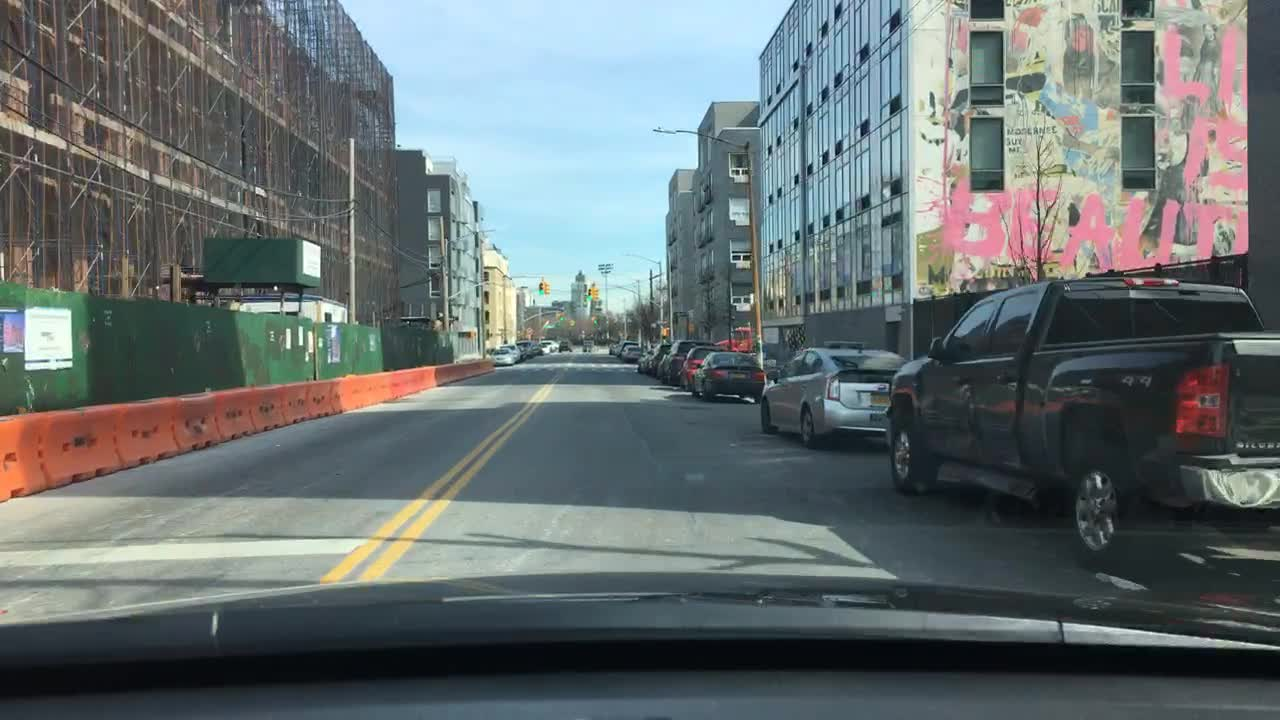car: (756, 346, 910, 447), (688, 347, 762, 400), (657, 339, 716, 386), (674, 344, 727, 391), (645, 339, 674, 374), (634, 346, 655, 375), (490, 346, 518, 367), (618, 340, 643, 363), (617, 337, 639, 358), (516, 339, 535, 363), (511, 342, 530, 360), (539, 337, 558, 354), (556, 337, 574, 351), (606, 340, 618, 356), (535, 342, 551, 354), (577, 342, 591, 354)
traffic light: (534, 280, 545, 298), (659, 324, 673, 338), (582, 283, 594, 299), (543, 282, 552, 299), (592, 285, 599, 303)
traffic sign: (673, 309, 692, 318)
truck: (883, 274, 1278, 555)
